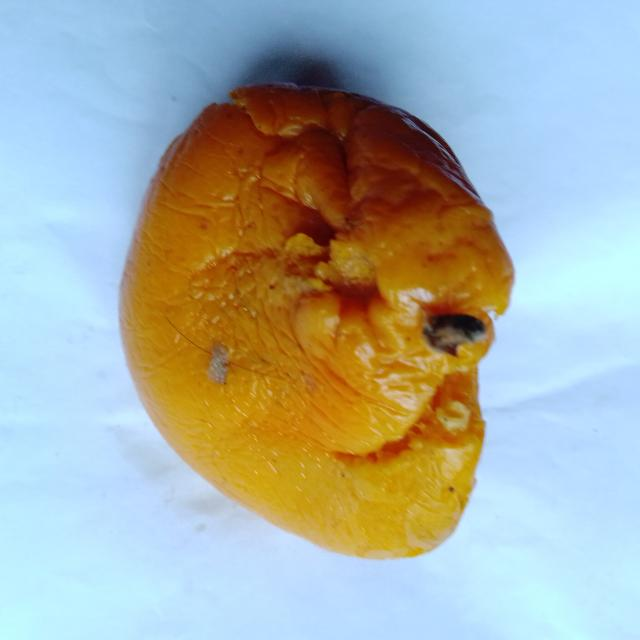orange: (121, 86, 512, 557)
